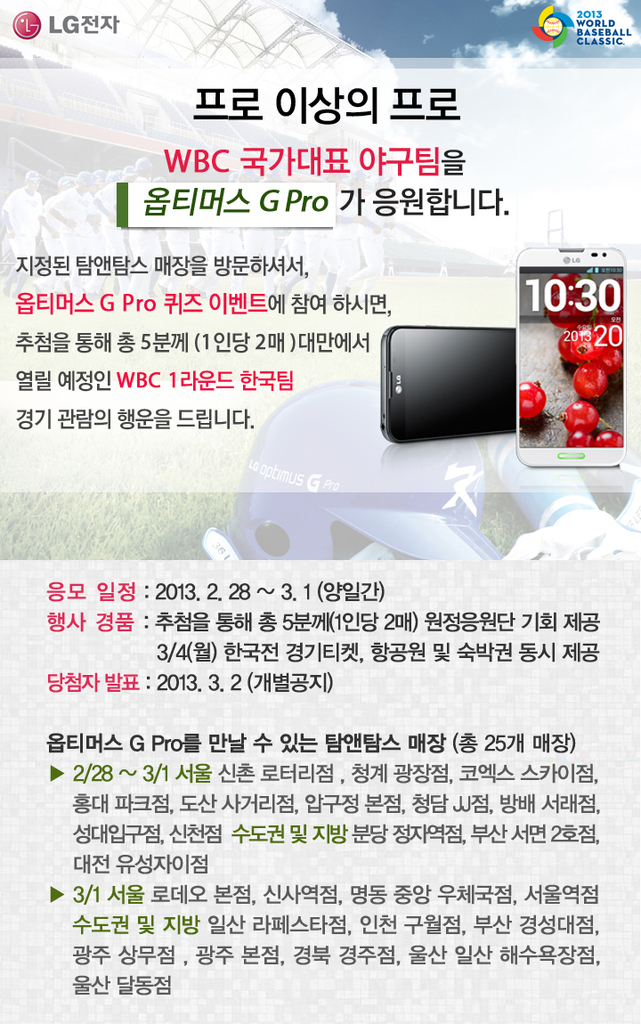mobile phone: (510, 244, 627, 467)
